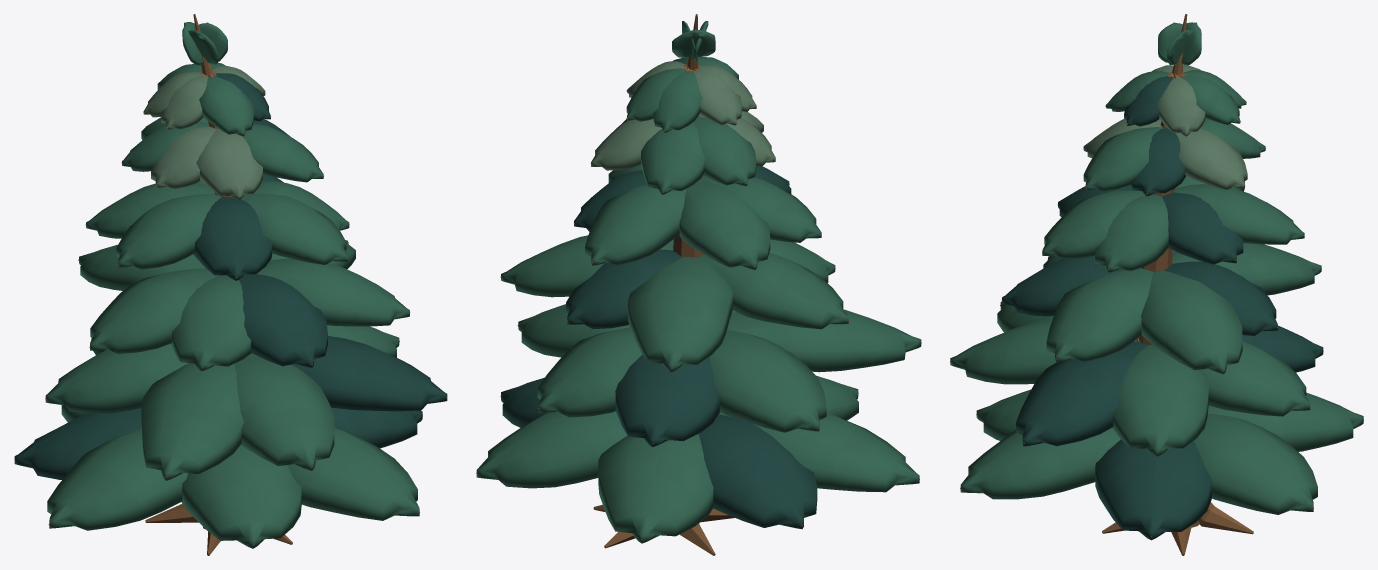
File: pine_broad.glb
3 renders of one model, left to right at view 1: azimuth 30°, elevation 25°; view 2: azimuth 150°, elevation 25°; view 3: azimuth 270°, elevation 25°, orthographic. The views are drawn at different scales.
Parts seen in each view (by area): view 1: pine_broad; view 2: pine_broad; view 3: pine_broad.
Boxes of the visible parts, bbox=[...] form: pine_broad: bbox=[14, 14, 447, 555]; pine_broad: bbox=[476, 14, 921, 555]; pine_broad: bbox=[950, 14, 1363, 555].
Size of the model in its own units: 3.38 by 4.23 by 3.2.
